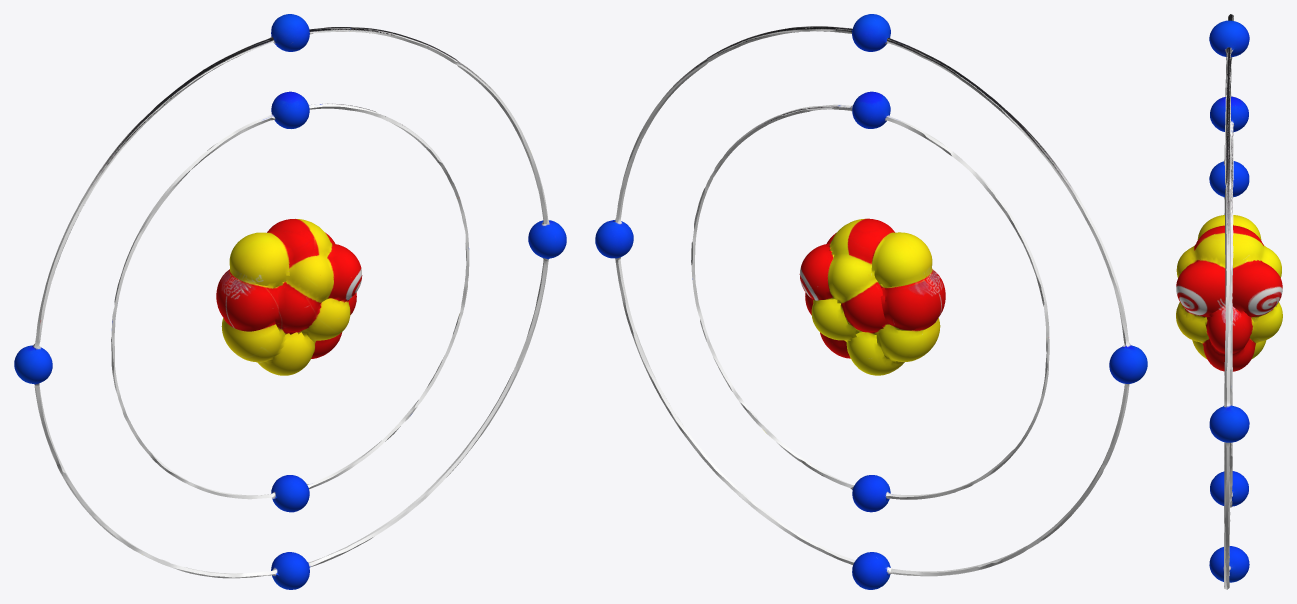
The model's file is Meshy_AI_carbon_atom_0407062241_texture.fbx.
3 renders of one model, left to right at view 1: azimuth 30°, elevation 25°; view 2: azimuth 150°, elevation 25°; view 3: azimuth 270°, elevation 25°, orthographic. The views are drawn at different scales.
Visible parts, largest first — view 1: output; view 2: output; view 3: output.
Boxes of the visible parts, <box> form: output: <box>14,14,566,589</box>; output: <box>595,14,1147,589</box>; output: <box>1176,14,1282,589</box>.
Size of the model in its own units: 191 by 191 by 33.18.
1 material, 1 textured.
